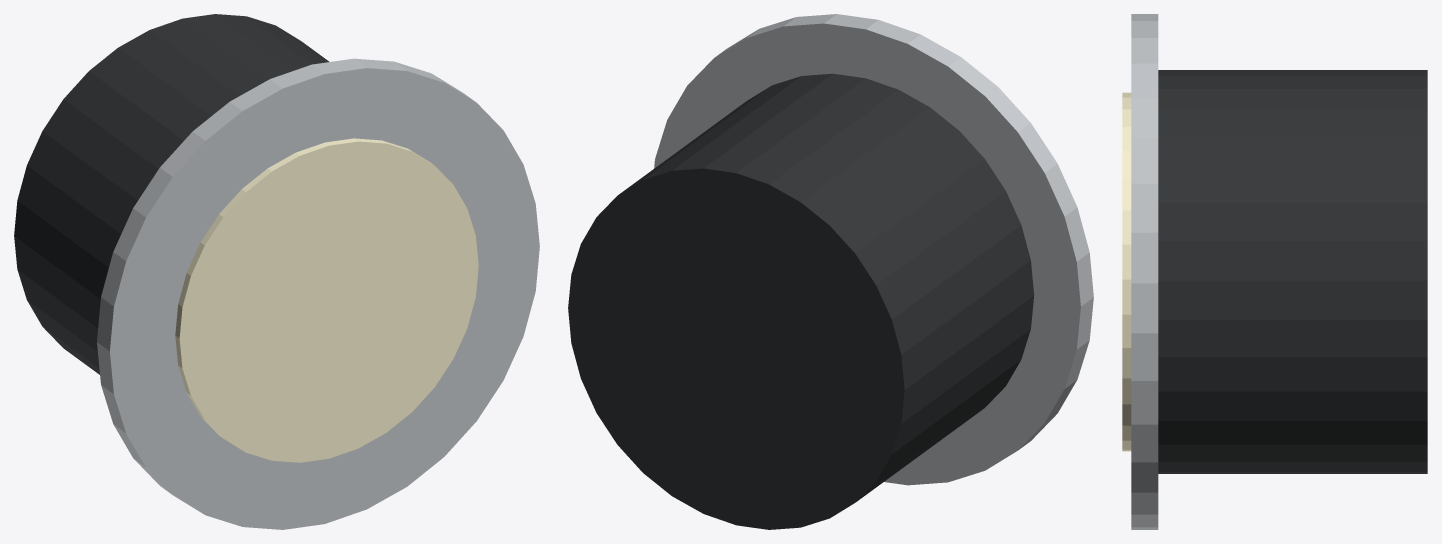
The picture shows the model from 3 angles, left to right: view 1: azimuth 30°, elevation 25°; view 2: azimuth 150°, elevation 25°; view 3: azimuth 270°, elevation 25°; orthographic projection. The views are drawn at different scales.
Parts seen in each view (by area): view 1: baseOffset=-0.6;diameter=0.2;height=0.08;material=luminaire; (×3); view 2: baseOffset=-0.6;diameter=0.2;height=0.08;material=luminaire; (×2); view 3: baseOffset=-0.6;diameter=0.2;height=0.08;material=luminaire; (×3).
Part boxes in pixels (x1,y1,x2,y2): baseOffset=-0.6;diameter=0.2;height=0.08;material=luminaire; (×3): [14, 14, 539, 529]; baseOffset=-0.6;diameter=0.2;height=0.08;material=luminaire; (×2): [568, 14, 1093, 529]; baseOffset=-0.6;diameter=0.2;height=0.08;material=luminaire; (×3): [1122, 14, 1427, 529].
Size of the model in its own units: 0.23 by 0.136 by 0.23.
